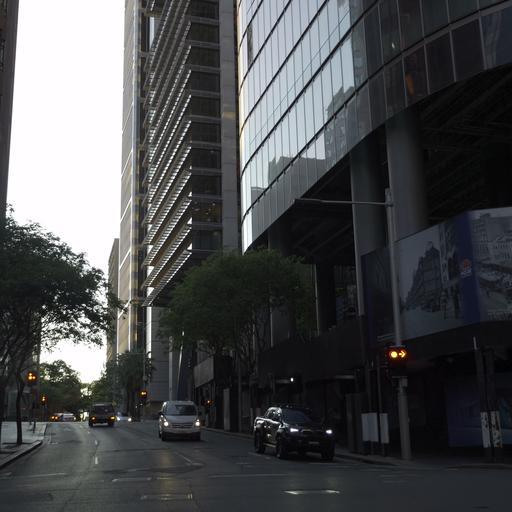Street light: (293, 189, 411, 459), (115, 297, 148, 418), (386, 344, 407, 361), (40, 394, 47, 421), (26, 370, 37, 385)
